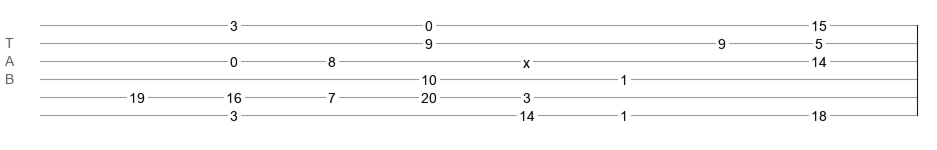0: (230, 54, 238, 64), (425, 18, 433, 28)
1: (620, 108, 628, 118), (620, 72, 628, 82)
10: (421, 72, 437, 82)
14: (519, 108, 535, 118), (811, 54, 827, 64)
15: (811, 18, 827, 28)
16: (226, 90, 242, 100)
18: (811, 108, 827, 118)
19: (129, 90, 145, 100)
20: (421, 90, 437, 100)
3: (230, 18, 238, 28), (230, 108, 238, 118), (523, 90, 531, 100)
5: (815, 36, 823, 46)
7: (328, 90, 336, 100)
8: (328, 54, 336, 64)
9: (425, 36, 433, 46), (718, 36, 726, 46)
x: (523, 55, 530, 63)
